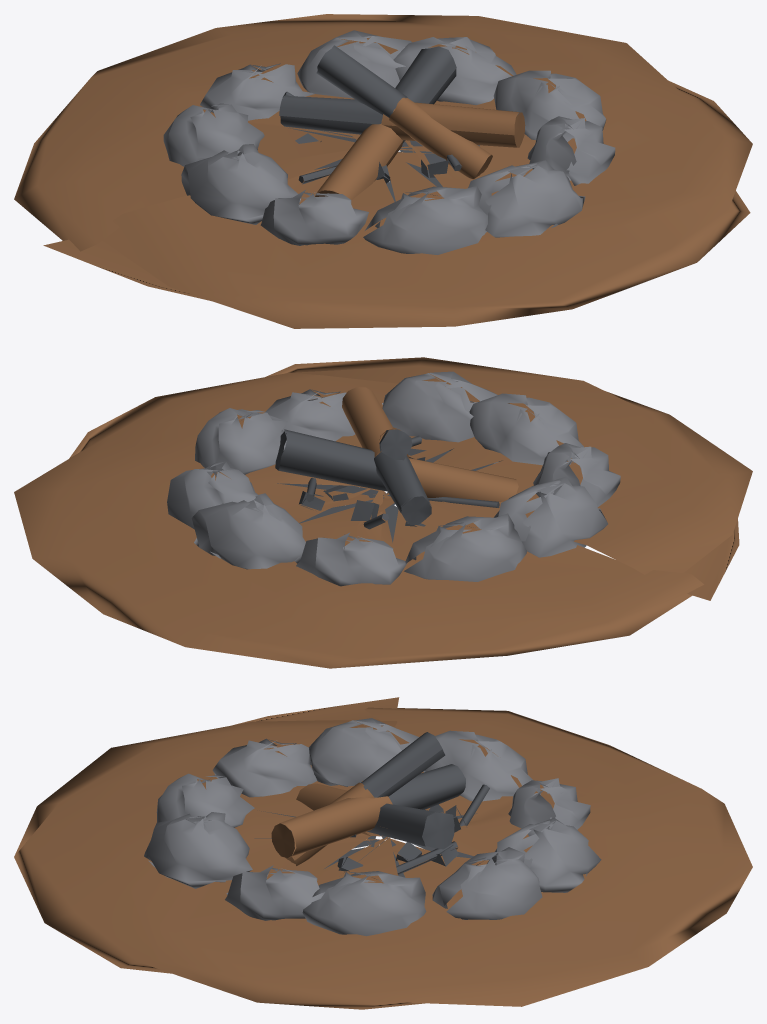
File: campfire.glb
The picture shows the model from 3 angles, top to bottom: view 1: azimuth 30°, elevation 25°; view 2: azimuth 150°, elevation 25°; view 3: azimuth 270°, elevation 25°; orthographic projection. The views are drawn at different scales.
Parts seen in each view (by area): view 1: Mesh_DirtBase, Mesh_Stone_3, Mesh_MasterStone_2, Mesh_Stone_5, Mesh_MasterStone_0, Mesh_Stone_4, Mesh_Stone_6, Mesh_Stone_9, Mesh_MasterStone_1, Mesh_Stone_7, Mesh_Stone_8, Mesh_Log2_Fresh (+6 smaller); view 2: Mesh_DirtBase, Mesh_Stone_8, Mesh_Stone_6, Mesh_Stone_5, Mesh_Stone_3, Mesh_MasterStone_2, Mesh_MasterStone_0, Mesh_Stone_7, Mesh_Log1_Charred, Mesh_Stone_9, Mesh_MasterStone_1, Mesh_Log1_Fresh (+5 smaller); view 3: Mesh_DirtBase, Mesh_MasterStone_0, Mesh_MasterStone_2, Mesh_Stone_9, Mesh_Stone_5, Mesh_Stone_8, Mesh_Stone_4, Mesh_Stone_6, Mesh_Log2_Fresh, Mesh_MasterStone_1, Mesh_Stone_3, Mesh_Stone_7 (+6 smaller).
Boxes of the visible parts, x1,y1,x2,y2 form: Mesh_DirtBase: (14, 14, 752, 328); Mesh_Stone_3: (363, 186, 487, 254); Mesh_MasterStone_2: (468, 160, 585, 237); Mesh_Stone_5: (181, 144, 297, 224); Mesh_MasterStone_0: (493, 70, 606, 141); Mesh_Stone_4: (260, 190, 368, 245); Mesh_Stone_6: (163, 103, 264, 166); Mesh_Stone_9: (393, 37, 516, 105); Mesh_MasterStone_1: (527, 116, 615, 185); Mesh_Stone_7: (200, 63, 314, 120); Mesh_Stone_8: (297, 30, 411, 98); Mesh_Log2_Fresh: (381, 102, 525, 147); Mesh_DirtBase: (14, 357, 752, 668); Mesh_Stone_8: (191, 493, 305, 569); Mesh_Stone_6: (404, 513, 526, 581); Mesh_Stone_5: (494, 476, 607, 557); Mesh_Stone_3: (469, 393, 583, 465); Mesh_MasterStone_2: (382, 371, 507, 450); Mesh_MasterStone_0: (195, 408, 287, 474); Mesh_Stone_7: (294, 532, 407, 586); Mesh_Log1_Charred: (275, 429, 387, 491); Mesh_Stone_9: (167, 461, 263, 529); Mesh_MasterStone_1: (265, 389, 354, 441); Mesh_Log1_Fresh: (409, 458, 518, 501); Mesh_DirtBase: (14, 697, 752, 1009); Mesh_MasterStone_0: (302, 871, 426, 936); Mesh_MasterStone_2: (144, 812, 252, 888); Mesh_Stone_9: (432, 847, 542, 919); Mesh_Stone_5: (309, 718, 418, 786); Mesh_Stone_8: (487, 817, 601, 892); Mesh_Stone_4: (212, 738, 317, 797); Mesh_Stone_6: (423, 730, 532, 801); Mesh_Log2_Fresh: (271, 796, 392, 857); Mesh_MasterStone_1: (225, 865, 324, 920); Mesh_Stone_3: (156, 773, 254, 827); Mesh_Stone_7: (508, 778, 590, 836).
Size of the model in its own units: 2.47 by 0.433 by 2.48.
